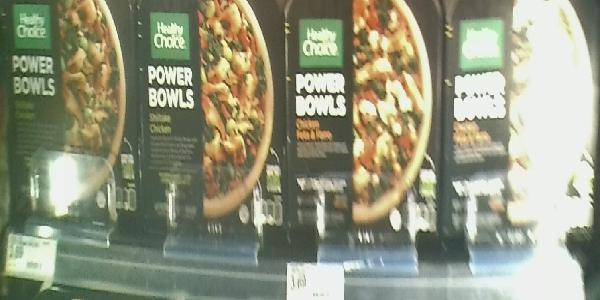pizza1: (286, 1, 444, 253), (144, 1, 286, 258), (10, 1, 146, 236)
